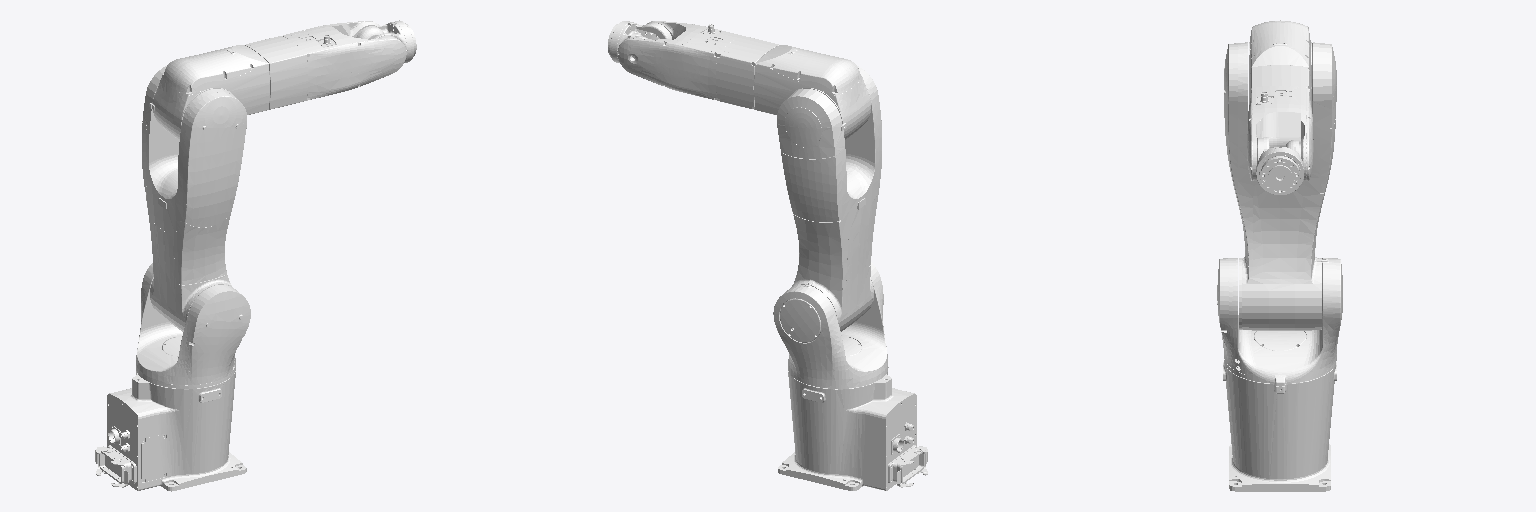
The robot description file, URDF, robot "delta_drv90l":
<?xml version="1.0"?>


<robot name = "delta_drv90l">

  <link name="base_link">
    <inertial>
      <origin xyz="0 0 0" rpy="0 0 0" />
      <mass value="1.0" />
      <inertia ixx="1" ixy="0" ixz="0"
                       iyy="1" iyz="0"
                               izz="1" />
    </inertial>
    <visual>
      <origin xyz="0 0 0" rpy="0 0 0" />
      <geometry>
        <mesh filename="delta_drv90l_support/meshes/drv90l/visual/base_link.STL"/>
      </geometry>
      <material name="visual_material">
        <color rgba="1 1 1 1"/>
      </material>
    </visual>
    <collision>
      <origin xyz="0 0 0" rpy="0 0 0" />
      <geometry>
        <mesh filename="delta_drv90l_support/meshes/drv90l/collision/base_link.STL"/>
      </geometry>
      <material name="collision_material">
        <color rgba="1 1 1 1"/>
      </material>
    </collision>
  </link>

  <link name="link_1">
    <inertial>
      <origin xyz="0 0 0" rpy="0 0 0" />
      <mass value="1.0" />
      <inertia ixx="1" ixy="0" ixz="0"
                       iyy="1" iyz="0"
                               izz="1" />
    </inertial>
    <visual>
      <origin xyz="0 0 0" rpy="0 0 0" />
      <geometry>
        <mesh filename="delta_drv90l_support/meshes/drv90l/visual/link_1.STL"/>
      </geometry>
      <material name="visual_material"/>
    </visual>
    <collision>
      <origin xyz="0 0 0" rpy="0 0 0" />
      <geometry>
        <mesh filename="delta_drv90l_support/meshes/drv90l/collision/link_1.STL"/>
      </geometry>
      <material name="collision_material"/>
    </collision>
  </link>

  <joint name="joint_1" type="revolute">
    <origin xyz="0 0 0.226" rpy="0 0 0" />
    <parent link="base_link"/>
    <child link="link_1"/>
    <axis xyz="0 0 1" />
    <limit
      lower="-2.96706"
      upper="2.96706"
      effort="0"
      velocity="1.028" />
  </joint>


  <link name="link_2">
    <inertial>
      <origin xyz="0 0 0" rpy="0 0 0" />
      <mass value="1.0" />
      <inertia ixx="1" ixy="0" ixz="0"
                       iyy="1" iyz="0"
                               izz="1" />
    </inertial>
    <visual>
      <origin xyz="0 0 0" rpy="0 0 0" />
      <geometry>
        <mesh filename="delta_drv90l_support/meshes/drv90l/visual/link_2.STL"/>
      </geometry>
      <material name="visual_material"/>
    </visual>
    <collision>
      <origin xyz="0 0 0" rpy="0 0 0" />
      <geometry>
        <mesh filename="delta_drv90l_support/meshes/drv90l/collision/link_2.STL"/>
      </geometry>
      <material name="collision_material"/>
    </collision>
  </link>

  <joint name="joint_2" type="revolute">
    <origin xyz="0.025 0 0.148" rpy="0 0 0" />
    <parent link="link_1"/>
    <child link="link_2"/>
    <axis xyz="0 1 0" />
    <limit
      lower="-1.8326"
      upper="2.35619"
      effort="0"
      velocity="0.7222" />
  </joint>

  <link name="link_3">
    <inertial>
      <origin xyz="0 0 0" rpy="0 0 0" />
      <mass value="1.0" />
      <inertia ixx="1" ixy="0" ixz="0"
                       iyy="1" iyz="0"
                               izz="1" />
    </inertial>
    <visual>
      <origin xyz="0 0 0" rpy="0 0 0" />
      <geometry>
        <mesh filename="delta_drv90l_support/meshes/drv90l/visual/link_3.STL"/>
      </geometry>
      <material name="visual_material"/>
    </visual>
    <collision>
      <origin xyz="0 0 0" rpy="0 0 0" />
      <geometry>
        <mesh filename="delta_drv90l_support/meshes/drv90l/collision/link_3.STL"/>
      </geometry>
      <material name="collision_material"/>
    </collision>
  </link>


  <joint name="joint_3" type="revolute">
    <origin xyz="0 0 0.44" rpy="0 0 0" />
    <parent link="link_2"/>
    <child link="link_3"/>
    <axis xyz="0 1 0" />
    <limit
      lower="-3.57792"
      upper="1.13446"
      effort="0"
      velocity="1.139" />
  </joint>

  <link name="link_4">
    <inertial>
      <origin xyz="0 0 0" rpy="0 0 0" />
      <mass value="1.0" />
      <inertia ixx="1" ixy="0" ixz="0"
                       iyy="1" iyz="0"
                               izz="1" />
    </inertial>
    <visual>
      <origin xyz="0 0 0" rpy="0 0 0" />
      <geometry>
        <mesh filename="delta_drv90l_support/meshes/drv90l/visual/link_4.STL"/>
      </geometry>
      <material name="visual_material"/>
    </visual>
    <collision>
      <origin xyz="0 0 0" rpy="0 0 0" />
      <geometry>
        <mesh filename="delta_drv90l_support/meshes/drv90l/collision/link_4.STL"/>
      </geometry>
      <material name="collision_material"/>
    </collision>
  </link>


  <joint name="joint_4" type="revolute">
    <origin xyz="0.145 0 0.04" rpy="0 0 0" />
    <parent link="link_3"/>
    <child link="link_4"/>
    <axis xyz="1 0 0" />
    <limit
      lower="-3.31613"
      upper="3.31613"
      effort="0"
      velocity="1.528" />
  </joint>


  <link name="link_5">
    <inertial>
      <origin xyz="0 0 0" rpy="0 0 0" />
      <mass value="1.0" />
      <inertia ixx="1" ixy="0" ixz="0"
                       iyy="1" iyz="0"
                               izz="1" />
    </inertial>
    <visual>
      <origin xyz="0 0 0" rpy="0 0 0" />
      <geometry>
        <mesh filename="delta_drv90l_support/meshes/drv90l/visual/link_5.STL"/>
      </geometry>
      <material name="visual_material"/>
    </visual>
    <collision>
      <origin xyz="0 0 0" rpy="0 0 0" />
      <geometry>
        <mesh filename="delta_drv90l_support/meshes/drv90l/collision/link_5.STL"/>
      </geometry>
      <material name="collision_material"/>
    </collision>
  </link>

  <joint name="joint_5" type="revolute">
    <origin xyz="0.29 0 0" rpy="0 0 0" />
    <parent link="link_4"/>
    <child link="link_5"/>
    <axis xyz="0 1 0" />
    <limit
      lower="-2.0944"
      upper="2.0944"
      effort="0"
      velocity="1.528" />
  </joint>


  <link name="link_6">
    <inertial>
      <origin xyz="0 0 0" rpy="0 0 0" />
      <mass value="1.0" />
      <inertia ixx="1" ixy="0" ixz="0"
                       iyy="1" iyz="0"
                               izz="1" />
    </inertial>
    <visual>
      <origin xyz="0 0 0" rpy="0 0 0" />
      <geometry>
        <mesh filename="delta_drv90l_support/meshes/drv90l/visual/link_6.STL"/>
      </geometry>
      <material name="visual_material"/>
    </visual>
    <collision>
      <origin xyz="0 0 0" rpy="0 0 0" />
      <geometry>
        <mesh filename="delta_drv90l_support/meshes/drv90l/collision/link_6.STL"/>
      </geometry>
      <material name="collision_material"/>
    </collision>
  </link>



  <joint name="joint_6" type="revolute">
    <origin xyz="0.064 0 0" rpy="0 0 0" />
    <parent link="link_5"/>
    <child link="link_6"/>
    <axis xyz="1 0 0" />
    <limit
      lower="-1.13446"
      upper="1.13446"
      effort="0"
      velocity="2.278" />
  </joint>


  <joint name="hand_joint" type="fixed">
    <parent link="link_6"/>
    <child link="hand"/>
    <axis xyz="0 0 1"/>
    <!-- change the rpy and xyz -->
    <origin rpy="0 1.57 0" xyz="0.013 0 0"/>
  </joint>

  <link name="hand">
  	<inertial>
      <origin rpy="0 0 0" xyz="0 0 0"/>
       <mass value=".81"/>
       <inertia ixx="0.1" ixy="0" ixz="0" iyy="0.1" iyz="0" izz="0.1"/>
    </inertial>
    <visual>
      <geometry>
        <mesh filename="delta_drv90l_support/meshes/drv90l/visual/hand.obj"/>
      </geometry>
      <material name="visual_material"/>
    </visual>
    <collision>
      <geometry>
        <mesh filename="delta_drv90l_support/meshes/drv90l/collision/hand.obj"/>
      </geometry>
      <material name="collision_material"/>
    </collision>
  </link>

  <link name="leftfinger">
    <contact>
      <friction_anchor/>
      <stiffness value="30000.0"/>
      <damping value="1000.0"/>
      <spinning_friction value="0.1"/>
      <lateral_friction value="1.0"/>
    </contact>
  	<inertial>
      <origin rpy="0 0 0" xyz="0 0 0"/>
       <mass value="0.1"/>
       <inertia ixx="0.1" ixy="0" ixz="0" iyy="0.1" iyz="0" izz="0.1"/>
    </inertial>
    <visual>
      <geometry>
        <!-- <mesh filename="package://meshes/visual/finger.obj"/> -->
        <mesh filename="delta_drv90l_support/meshes/drv90l/visual/finger_1.obj"/>
      </geometry>
      <material name="visual_material"/>
    </visual>
    <collision>
      <geometry>
        <!-- <mesh filename="package://meshes/collision/finger.obj"/> -->
        <mesh filename="delta_drv90l_support/meshes/drv90l/collision/finger_1.obj"/>
      </geometry>
      <material name="collision_material"/>
    </collision>
  </link>



  <link name="rightfinger">
    <contact>
      <friction_anchor/>
      <stiffness value="30000.0"/>
      <damping value="1000.0"/>
      <spinning_friction value="0.1"/>
      <lateral_friction value="1.0"/>
    </contact>

  	<inertial>
      <origin rpy="0 0 0" xyz="0 0 0"/>
       <mass value="0.1"/>
       <inertia ixx="0.1" ixy="0" ixz="0" iyy="0.1" iyz="0" izz="0.1"/>
    </inertial>
    <visual>
      <origin rpy="0 0 3.14159265359" xyz="0 0 0"/>
      <geometry>
        <!-- <mesh filename="package://meshes/visual/finger.obj"/> -->
        <mesh filename="delta_drv90l_support/meshes/drv90l/visual/finger_1.obj"/>
      </geometry>
      <material name="visual_material"/>
    </visual>
    <collision>
      <origin rpy="0 0 3.14159265359" xyz="0 0 0"/>
      <geometry>
        <!-- <mesh filename="package://meshes/collision/finger.obj"/> -->
        <mesh filename="delta_drv90l_support/meshes/drv90l/collision/finger_1.obj"/>
      </geometry>
      <material name="collision_material"/>
    </collision>
  </link>


  <joint name="finger_joint1" type="prismatic">
    <parent link="hand"/>
    <child link="leftfinger"/>
    <origin rpy="0 0 0" xyz="0 0 0.0584"/>
    <axis xyz="0 1 0"/>
    <limit effort="50" lower="0.0" upper="0.04" velocity="0.2"/>
  </joint>

    <joint name="finger_joint2" type="prismatic">
    <parent link="hand"/>
    <child link="rightfinger"/>
    <origin rpy="0 0 0" xyz="0 0 0.0584"/>
    <axis xyz="0 -1 0"/>
    <limit effort="50" lower="0.0" upper="0.04" velocity="0.2"/>



  </joint>
   <link name="grasptarget">
    <inertial>
      <origin rpy="0 0 0" xyz="0 0 0"/>
       <mass value="0.0"/>
       <inertia ixx="0.1" ixy="0" ixz="0" iyy="0.1" iyz="0" izz="0.1"/>
    </inertial>
   </link>

      
   <joint name="pgrasptarget_hand" type="fixed">
    <parent link="hand"/>
    <child link="grasptarget"/>
    <origin rpy="0 0 0" xyz="0 0 0.105"/>
  </joint>

</robot>

--- Render facts (derived) ---
Views: 3 orthographic renders of the robot side by side, from view 1: azimuth 30°, elevation 25°; view 2: azimuth 150°, elevation 25°; view 3: azimuth 270°, elevation 25°.
Model delta_drv90l with 11 links and 10 joints (6 revolute, 2 prismatic, 2 fixed), rooted at base_link, posed all joints at 0.
Links seen in each view (by area): view 1: link_2, base_link, link_1, link_4, link_3, link_5; view 2: link_2, base_link, link_1, link_4, link_3, link_5; view 3: link_2, base_link, link_1, link_4, link_3, link_6, link_5.
Link boxes in pixels (bbox=[...]): link_2: bbox=[142, 66, 246, 331]; base_link: bbox=[95, 371, 246, 491]; link_1: bbox=[136, 263, 250, 388]; link_4: bbox=[245, 21, 406, 109]; link_3: bbox=[152, 45, 269, 139]; link_5: bbox=[356, 20, 413, 62]; link_2: bbox=[777, 66, 881, 331]; base_link: bbox=[778, 371, 927, 490]; link_1: bbox=[773, 262, 888, 388]; link_4: bbox=[618, 21, 778, 109]; link_3: bbox=[754, 45, 870, 139]; link_5: bbox=[610, 21, 669, 62]; link_2: bbox=[1224, 42, 1336, 330]; base_link: bbox=[1223, 362, 1336, 491]; link_1: bbox=[1217, 258, 1342, 385]; link_4: bbox=[1247, 65, 1313, 180]; link_3: bbox=[1249, 20, 1311, 88]; link_6: bbox=[1261, 156, 1299, 193]; link_5: bbox=[1256, 137, 1303, 194].
Bounding box of the posed robot: 0.7357 × 0.2349 × 0.9284 m (x, y, z).
Meshes: 9 distinct files referenced, 7 mesh visuals loaded (7 binary STL); not drawn: 3 (reference not matched to a file when rendering).
